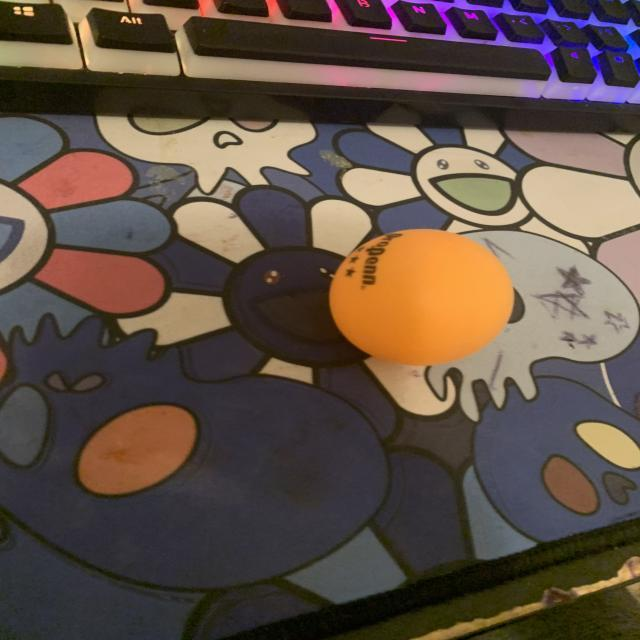ping-pong-ball: (318, 212, 522, 374)
